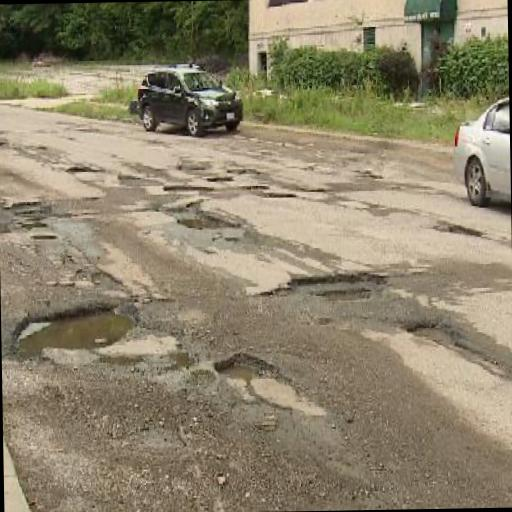pothole: (4, 297, 140, 364), (209, 347, 315, 414), (258, 266, 388, 306), (402, 318, 461, 348), (174, 210, 242, 232)
